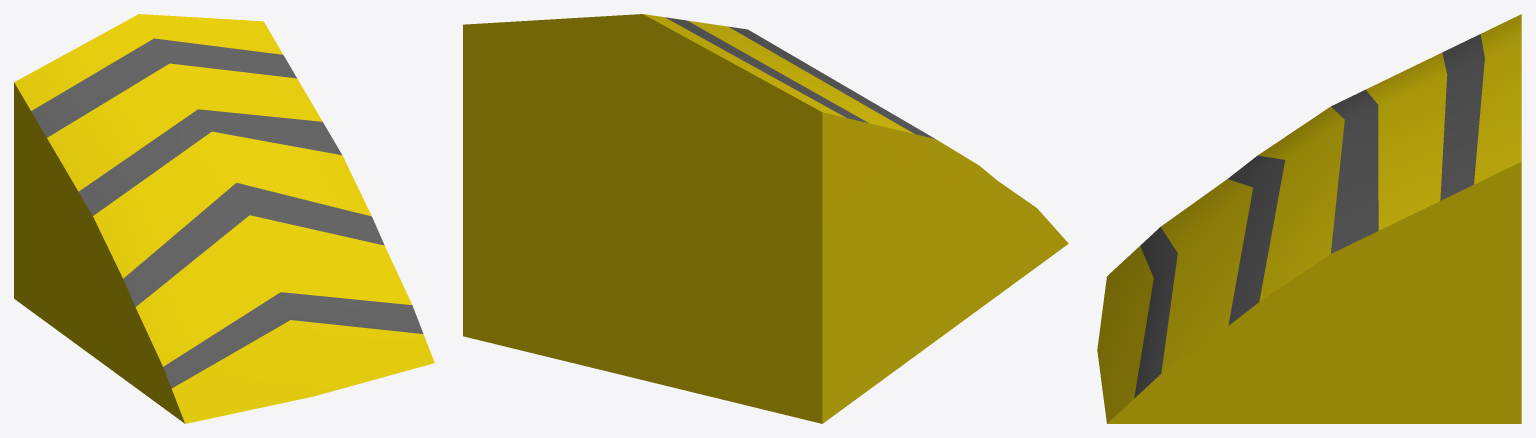
File: Ramp.fbx
The picture shows the model from 3 angles, left to right: view 1: azimuth 30°, elevation 25°; view 2: azimuth 150°, elevation 25°; view 3: azimuth 270°, elevation 25°; orthographic projection. The views are drawn at different scales.
Visible parts, largest first — view 1: Ramp; view 2: Ramp; view 3: Ramp.
Boxes of the visible parts, x1,y1,x2,y2 form: Ramp: [14, 14, 434, 423]; Ramp: [463, 14, 1068, 423]; Ramp: [1097, 14, 1521, 423].
Size of the model in its own units: 16.54 by 16.1 by 20.09.
